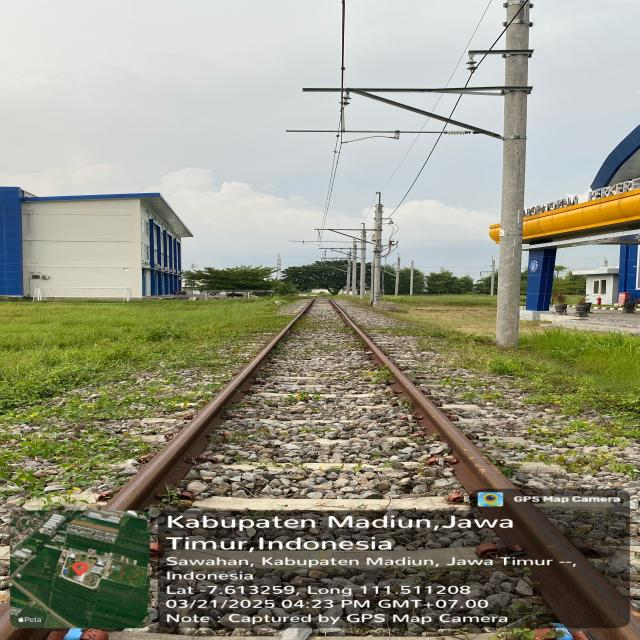rail-detection: (330, 301, 640, 640), (103, 301, 314, 510)
